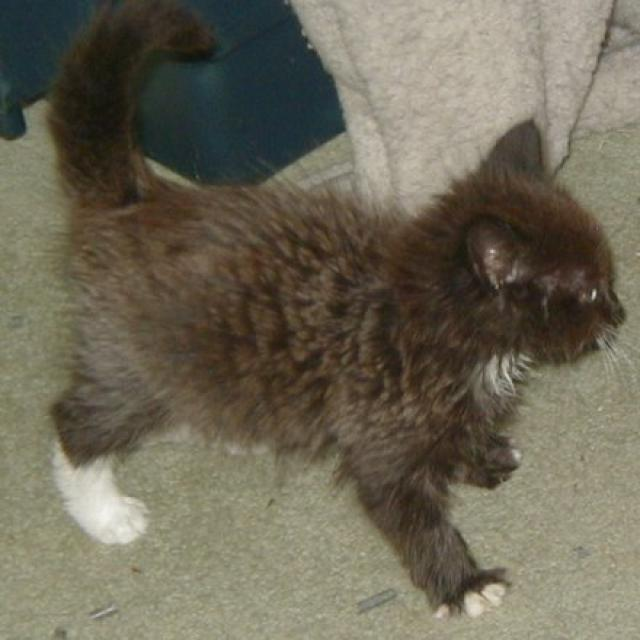Cats: (41, 0, 630, 620)
